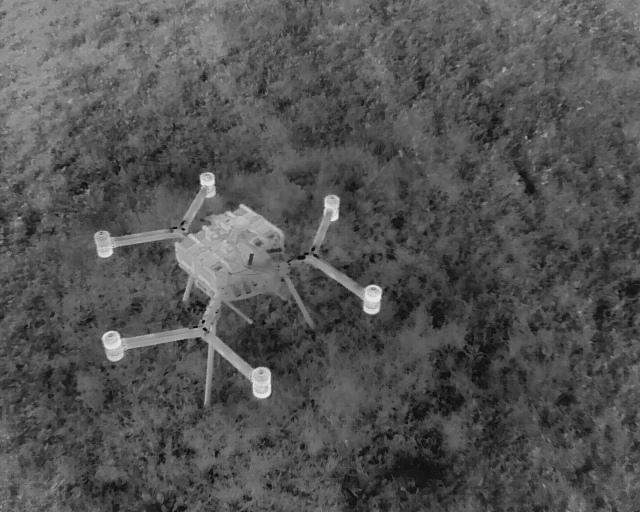drone: (50, 130, 408, 429)
